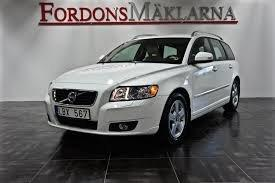license-plates: (57, 107, 90, 119)
